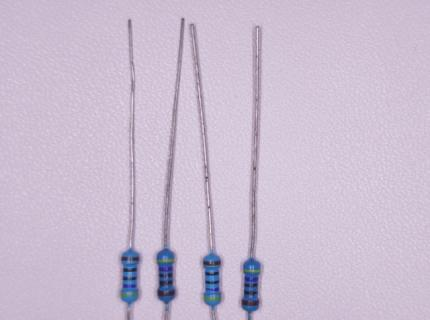Black band: (122, 275, 137, 281), (205, 280, 220, 285), (243, 290, 258, 295), (159, 273, 173, 278), (159, 280, 173, 285), (123, 268, 137, 272), (205, 271, 219, 275), (244, 283, 258, 287)
Brown band: (157, 289, 176, 297), (241, 299, 260, 306), (121, 256, 140, 262), (203, 260, 221, 266)
Violet band: (244, 275, 259, 282), (205, 287, 220, 292), (158, 267, 173, 272), (122, 283, 137, 288)
Yellow band: (156, 258, 175, 263), (120, 292, 138, 297), (203, 296, 221, 301), (243, 268, 261, 272)
